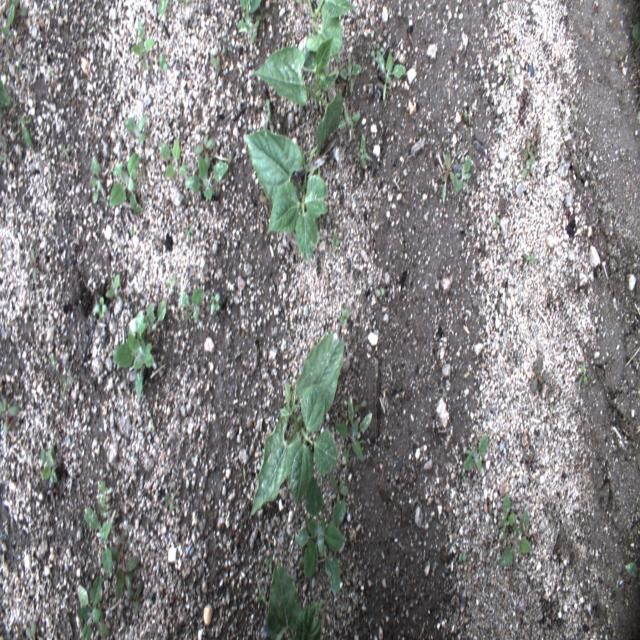crop: (251, 333, 344, 516), (244, 130, 328, 261), (251, 36, 343, 154), (268, 563, 326, 639), (294, 0, 355, 56)
weed: (296, 474, 346, 593), (113, 298, 168, 401), (335, 395, 373, 465), (499, 491, 533, 569), (109, 153, 146, 213), (76, 575, 110, 639), (185, 153, 228, 201), (85, 507, 114, 578), (109, 532, 138, 601), (376, 49, 406, 102), (158, 136, 189, 178), (131, 20, 154, 70), (237, 0, 262, 44), (339, 52, 362, 94), (463, 435, 488, 470), (442, 150, 458, 204), (530, 357, 549, 396), (0, 398, 19, 436), (194, 134, 214, 170), (180, 287, 202, 319), (41, 444, 58, 484), (329, 474, 349, 508), (12, 115, 32, 148), (125, 116, 146, 146), (455, 155, 471, 194), (127, 580, 144, 616), (105, 274, 124, 306), (9, 0, 28, 31), (356, 132, 372, 165), (0, 76, 12, 118), (2, 2, 15, 40), (91, 155, 101, 204), (96, 479, 114, 506), (338, 108, 360, 129), (211, 47, 227, 73), (25, 620, 46, 639), (26, 250, 37, 282), (298, 548, 314, 570), (522, 156, 536, 181), (221, 151, 233, 178), (94, 295, 107, 318), (46, 474, 56, 502), (60, 375, 71, 400), (519, 89, 530, 114), (625, 559, 639, 578), (578, 364, 590, 386), (234, 347, 244, 373), (60, 143, 74, 161), (162, 492, 175, 511), (255, 9, 270, 25), (264, 99, 272, 126), (371, 43, 384, 59), (523, 141, 533, 161), (211, 292, 220, 314), (258, 582, 266, 604), (632, 21, 640, 43), (158, 0, 168, 17), (353, 400, 367, 412), (100, 503, 111, 518), (182, 225, 192, 241), (523, 251, 535, 264), (264, 556, 273, 573), (159, 56, 168, 72), (507, 56, 513, 80), (492, 214, 501, 230), (571, 105, 579, 122), (340, 310, 349, 325), (463, 110, 471, 126), (531, 138, 538, 156), (548, 403, 556, 418), (332, 232, 339, 248), (168, 275, 175, 289), (376, 288, 385, 298), (460, 470, 467, 482), (459, 553, 467, 563), (49, 353, 55, 366), (535, 126, 540, 138), (130, 230, 136, 236), (335, 58, 341, 63), (149, 428, 153, 434), (174, 285, 177, 293)
